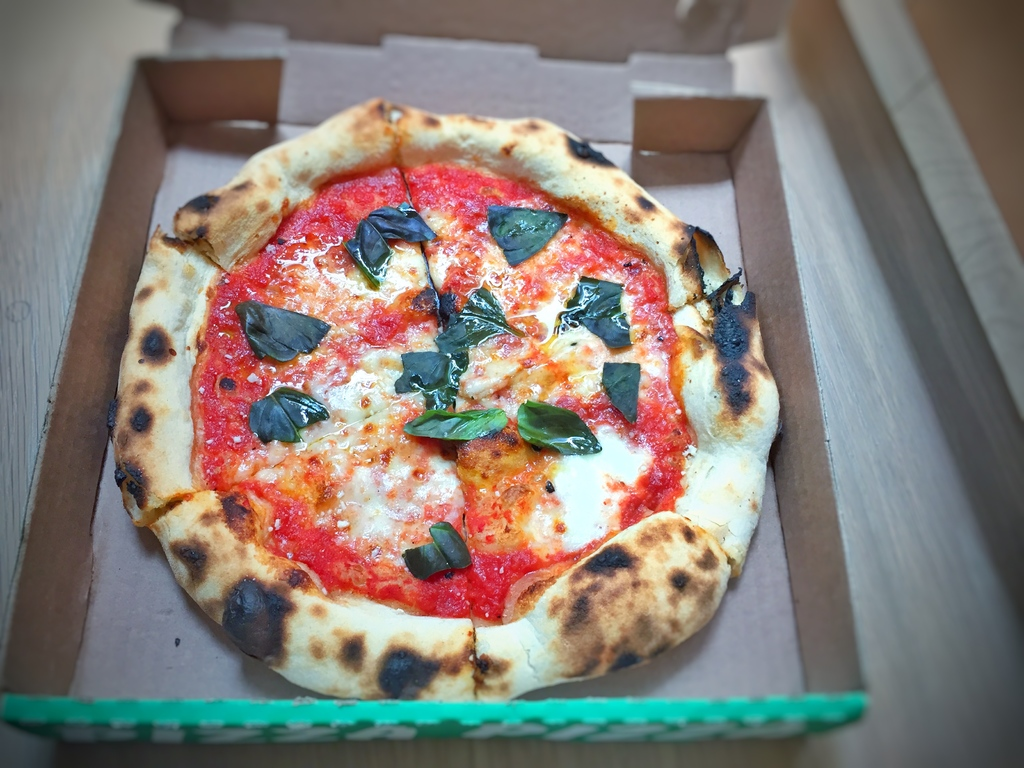Pizza: (111, 90, 783, 707)
